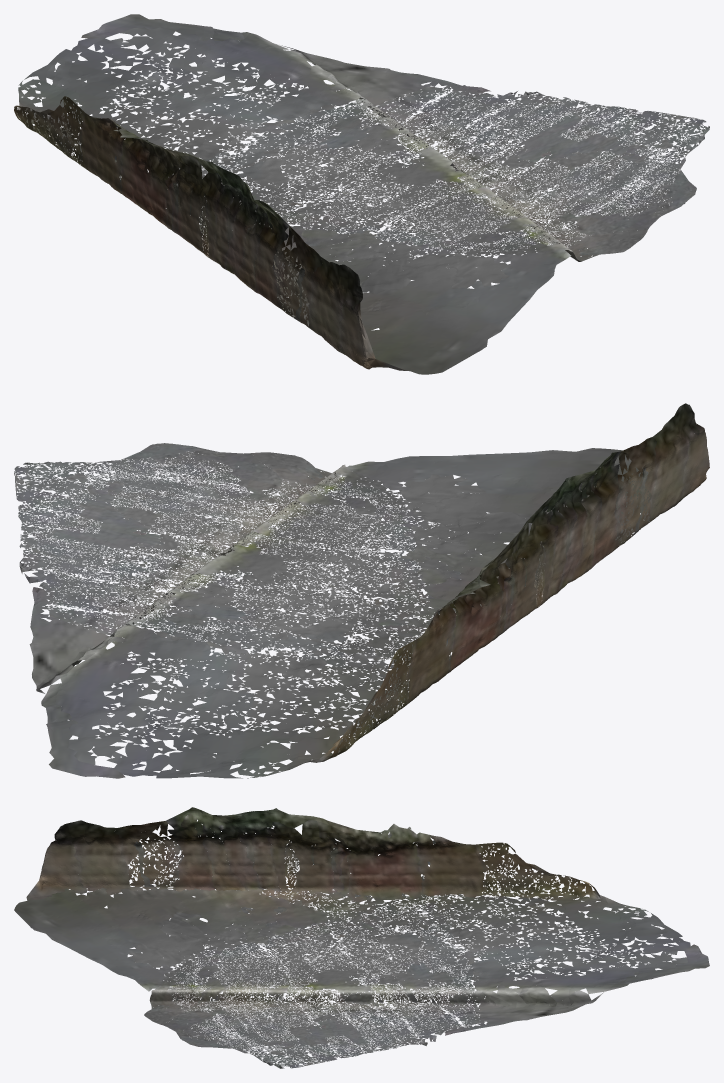
File: cordolo-scan.glb
3 views of the same model, one above another, from view 1: azimuth 30°, elevation 25°; view 2: azimuth 150°, elevation 25°; view 3: azimuth 270°, elevation 25° (orthographic). The views are drawn at different scales.
Parts seen in each view (by area): view 1: texturedMesh_0; view 2: texturedMesh_0; view 3: texturedMesh_0.
Boxes of the visible parts, <box> form: texturedMesh_0: <box>14,14,709,374</box>; texturedMesh_0: <box>14,403,709,778</box>; texturedMesh_0: <box>14,807,709,1068</box>.
Size of the model in its own units: 248 by 51.63 by 372.
1 material, 1 textured.
